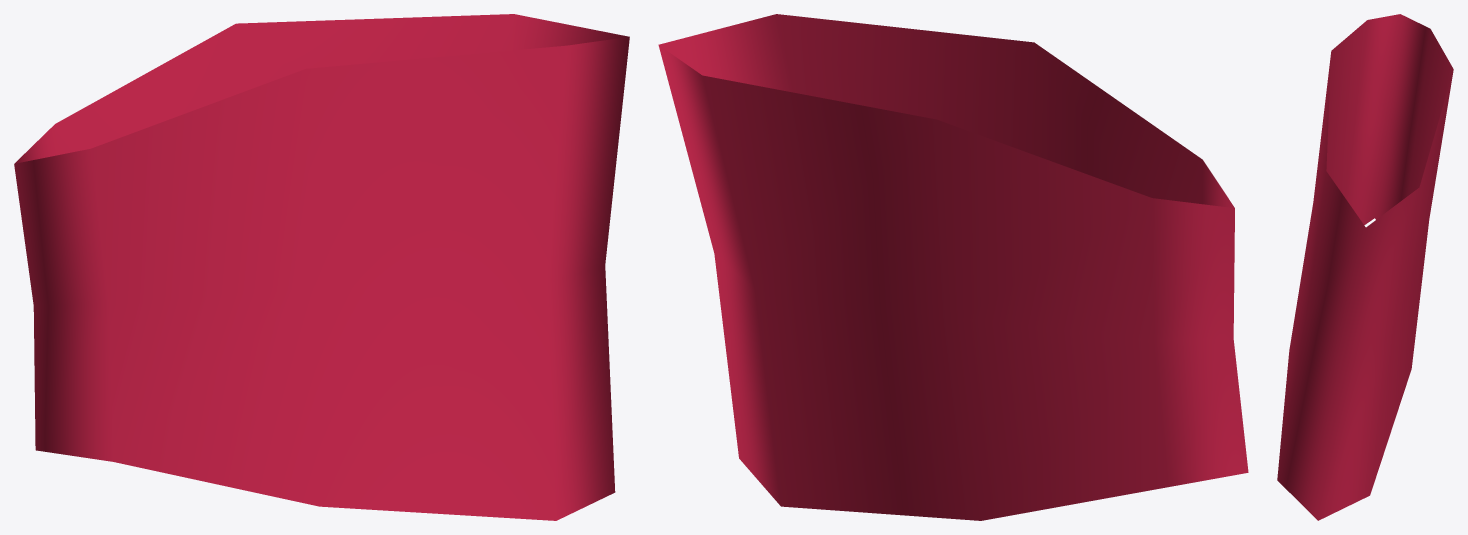
File: Ribbon_L.glb
3 views of the same model, side by side, from view 1: azimuth 30°, elevation 25°; view 2: azimuth 150°, elevation 25°; view 3: azimuth 270°, elevation 25° (orthographic). The views are drawn at different scales.
Parts seen in each view (by area): view 1: Noh.004; view 2: Noh.004; view 3: Noh.004.
Part boxes in pixels (bbox=[...]): Noh.004: bbox=[14, 14, 629, 520]; Noh.004: bbox=[658, 14, 1248, 520]; Noh.004: bbox=[1277, 14, 1453, 520].
Bounding box in the file's own units: 0.0952 × 0.0758 × 0.0333.
